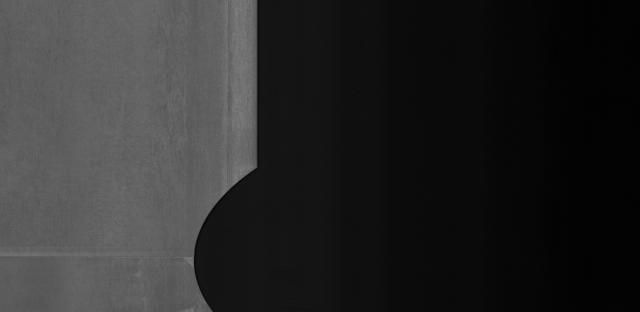crescent_gap: (177, 153, 268, 312)
welding_line: (3, 246, 216, 269)
